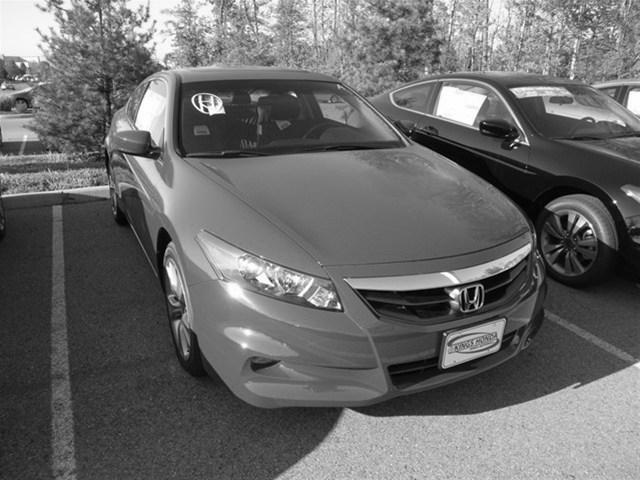car: (104, 67, 548, 409)
